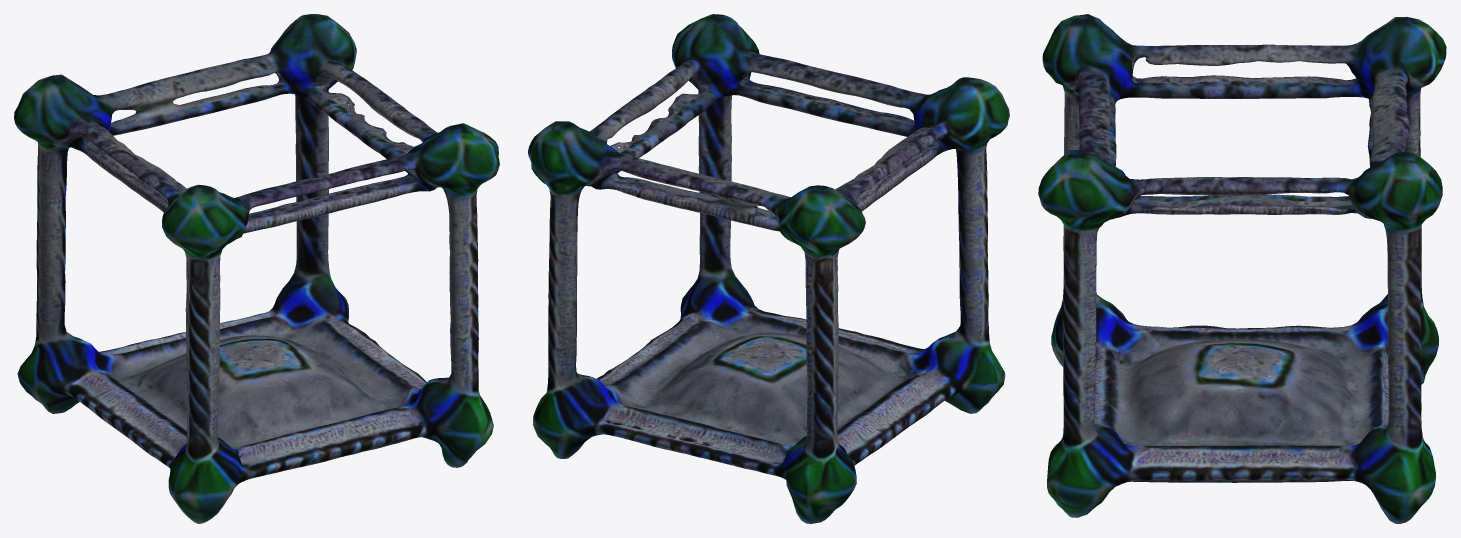
Rendered from 2423bd4d407c_Hypercube_Construct.fbx.
3 views of the same model, side by side, from view 1: azimuth 30°, elevation 25°; view 2: azimuth 150°, elevation 25°; view 3: azimuth 270°, elevation 25° (orthographic). The views are drawn at different scales.
Parts seen in each view (by area): view 1: mesh; view 2: mesh; view 3: mesh.
Boxes of the visible parts, x1=… form: mesh: x1=14, y1=14, x2=499, y2=523; mesh: x1=528, y1=14, x2=1009, y2=523; mesh: x1=1038, y1=14, x2=1446, y2=523.
Size of the model in its own units: 99.75 by 96.59 by 97.99.
